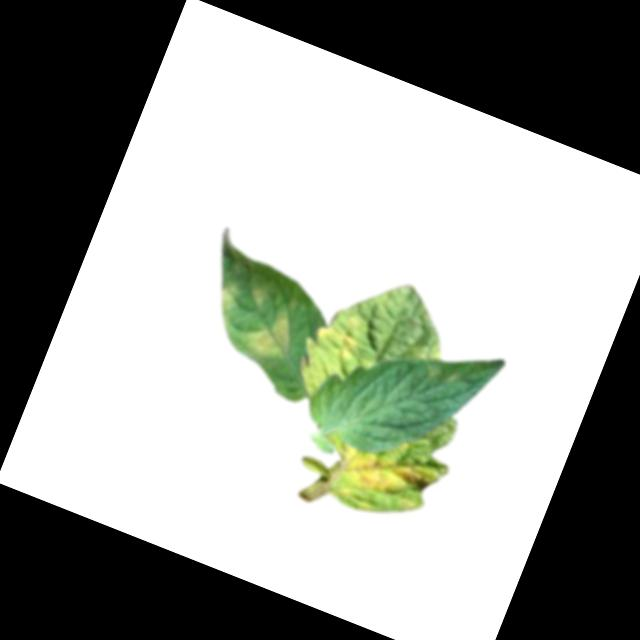Leaf_Mold: (302, 412, 451, 535), (240, 289, 306, 363), (307, 300, 372, 365)
